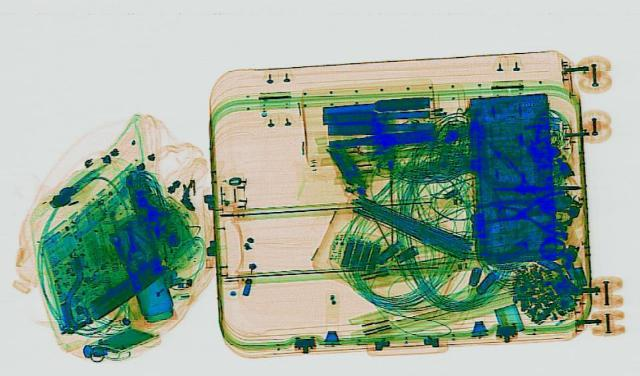Pliers: (492, 188, 570, 232)
